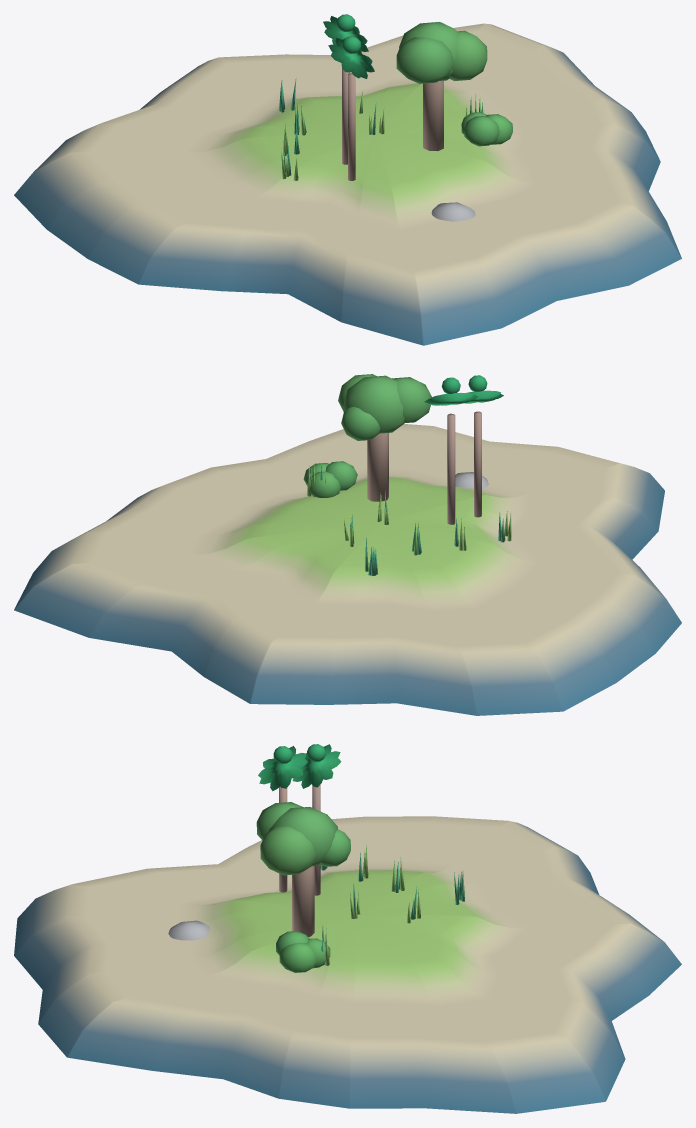
File: terrain_island_12.glb
3 views of the same model, one above another, from view 1: azimuth 30°, elevation 25°; view 2: azimuth 150°, elevation 25°; view 3: azimuth 270°, elevation 25° (orthographic). The views are drawn at different scales.
Parts seen in each view (by area): view 1: island_terrain, veg_tree2_tree_crown_0, veg_tree2_tree_trunk, veg_tree2_tree_crown_2, veg_tree2_tree_crown_c, veg_shrub0_ball0, veg_tree1_palm_trunk, rock0, veg_tree0_palm_trunk; view 2: island_terrain, veg_tree2_tree_crown_c, veg_tree2_tree_trunk, veg_tree2_tree_crown_0, veg_tree0_palm_trunk, veg_tree2_tree_crown_1, veg_tree1_palm_trunk, veg_shrub0_ball1, veg_shrub0_ball0; view 3: island_terrain, veg_tree2_tree_crown_2, veg_tree2_tree_crown_c, veg_tree2_tree_trunk, veg_shrub0_ball2, veg_tree2_tree_crown_1, veg_tree2_tree_crown_0, rock0.
Part boxes in pixels (x1,y1,x2,y2): island_terrain: (14, 23, 681, 345); veg_tree2_tree_crown_0: (396, 37, 453, 83); veg_tree2_tree_trunk: (423, 80, 443, 150); veg_tree2_tree_crown_2: (449, 30, 487, 80); veg_tree2_tree_crown_c: (399, 22, 458, 80); veg_shrub0_ball0: (464, 116, 499, 146); veg_tree1_palm_trunk: (348, 73, 355, 180); rock0: (431, 202, 475, 221); veg_tree0_palm_trunk: (342, 68, 349, 164); island_terrain: (14, 424, 681, 715); veg_tree2_tree_crown_c: (343, 375, 404, 433); veg_tree2_tree_trunk: (367, 433, 388, 501); veg_tree2_tree_crown_0: (392, 377, 432, 422); veg_tree0_palm_trunk: (447, 413, 455, 524); veg_tree2_tree_crown_1: (341, 406, 380, 440); veg_tree1_palm_trunk: (474, 411, 481, 517); veg_shrub0_ball1: (310, 471, 340, 497); veg_shrub0_ball0: (325, 461, 357, 490); island_terrain: (14, 816, 681, 1113); veg_tree2_tree_crown_2: (260, 826, 316, 875); veg_tree2_tree_crown_c: (268, 807, 337, 866); veg_tree2_tree_trunk: (292, 866, 314, 936); veg_shrub0_ball2: (279, 943, 317, 972); veg_tree2_tree_crown_1: (319, 829, 350, 866); veg_tree2_tree_crown_0: (256, 802, 303, 840); rock0: (168, 920, 209, 940).
Size of the model in its own units: 158 by 55.17 by 161.
